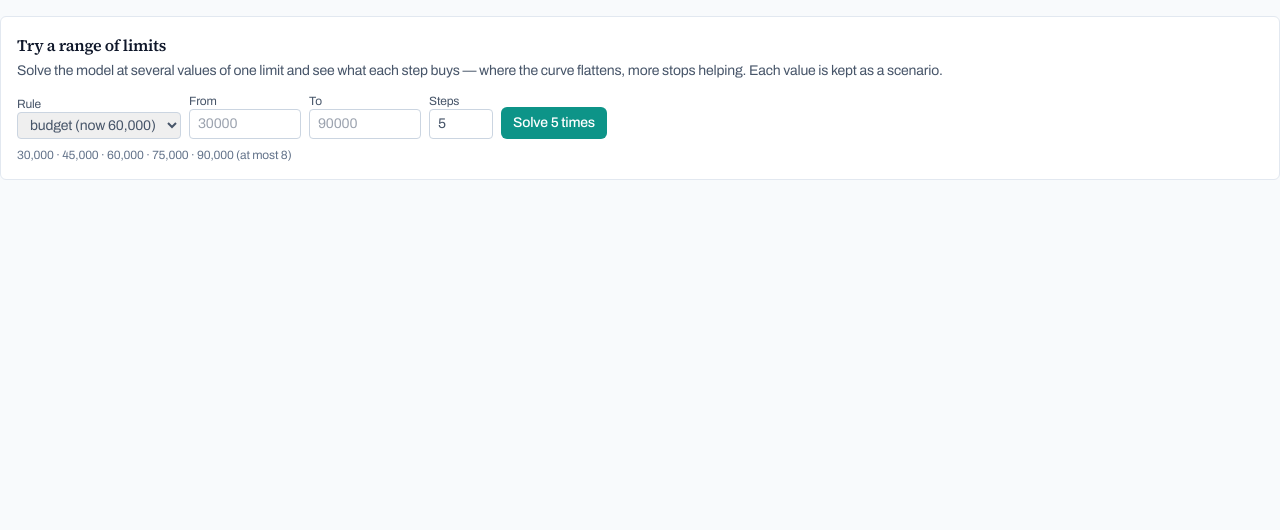
Scenario: solves the model once per value, each kept as a scenario, and tabulates the goal
The width and height of the screenshot is (1280, 530).
In the field labelled "From": [245, 124] box 189,109 -> 301,139, type "40000"
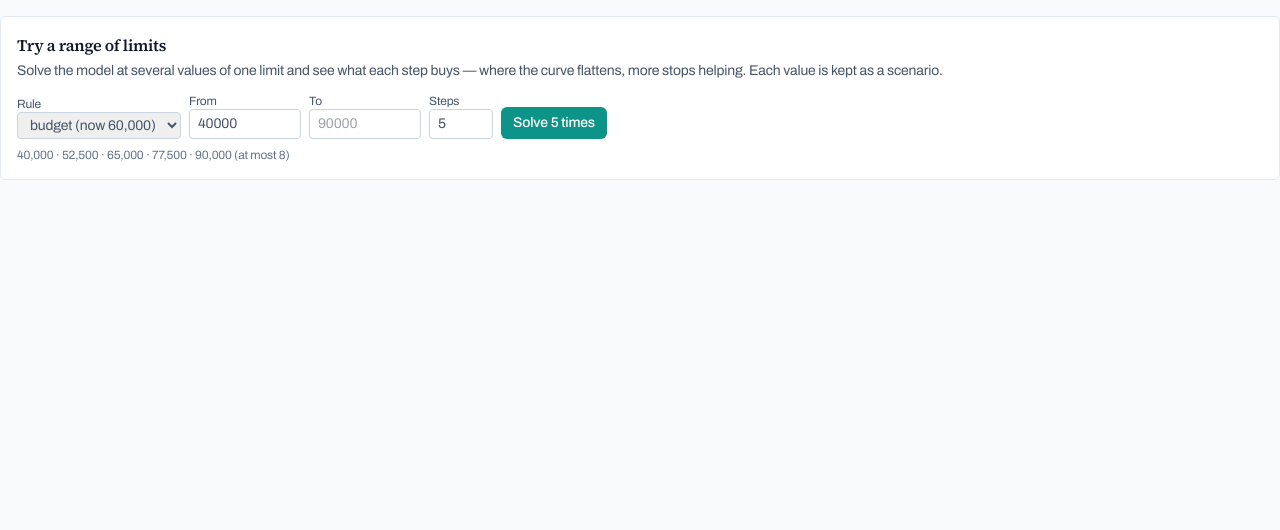
In the field labelled "To": [365, 124] box 309,109 -> 421,139, type "80000"
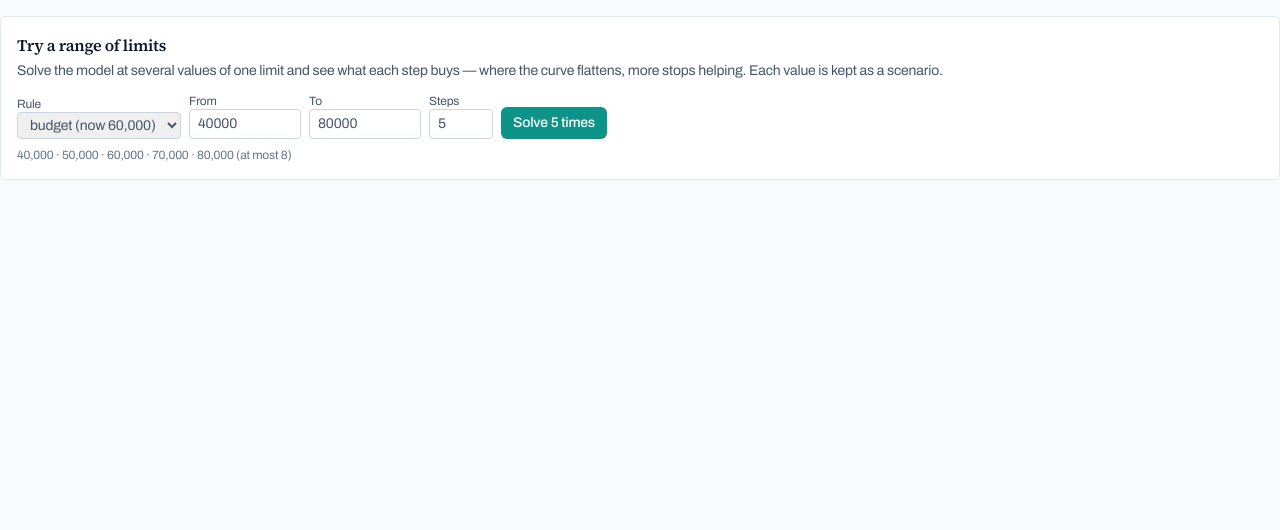
Replace the text in the field labelled "Steps" with "3": [461, 124] box 429,109 -> 493,139
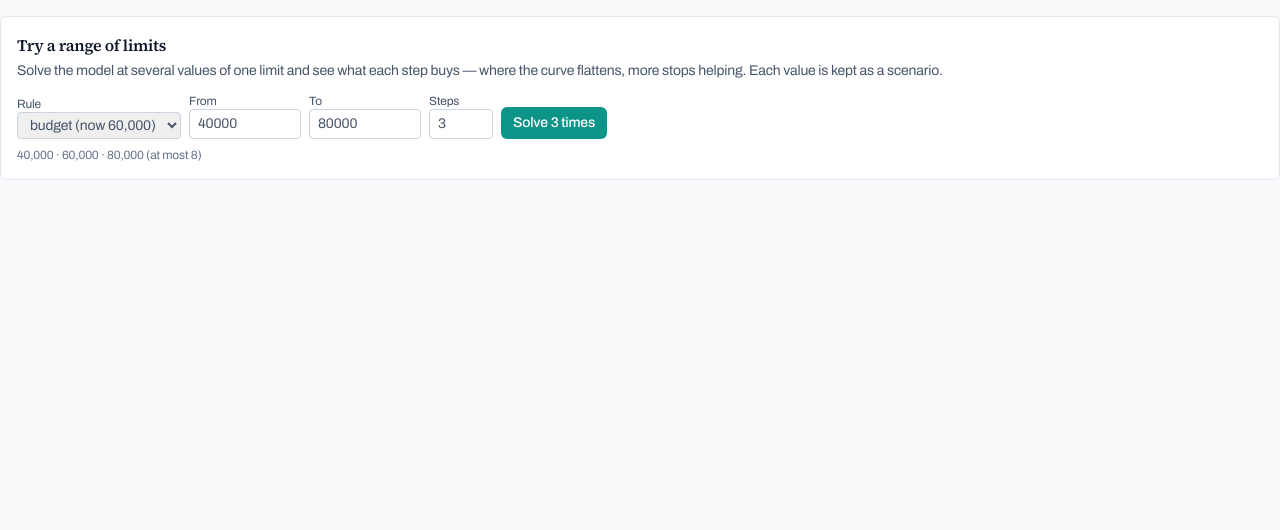
Click the button "Solve 3 times": [554, 123] box 501,107 -> 607,139
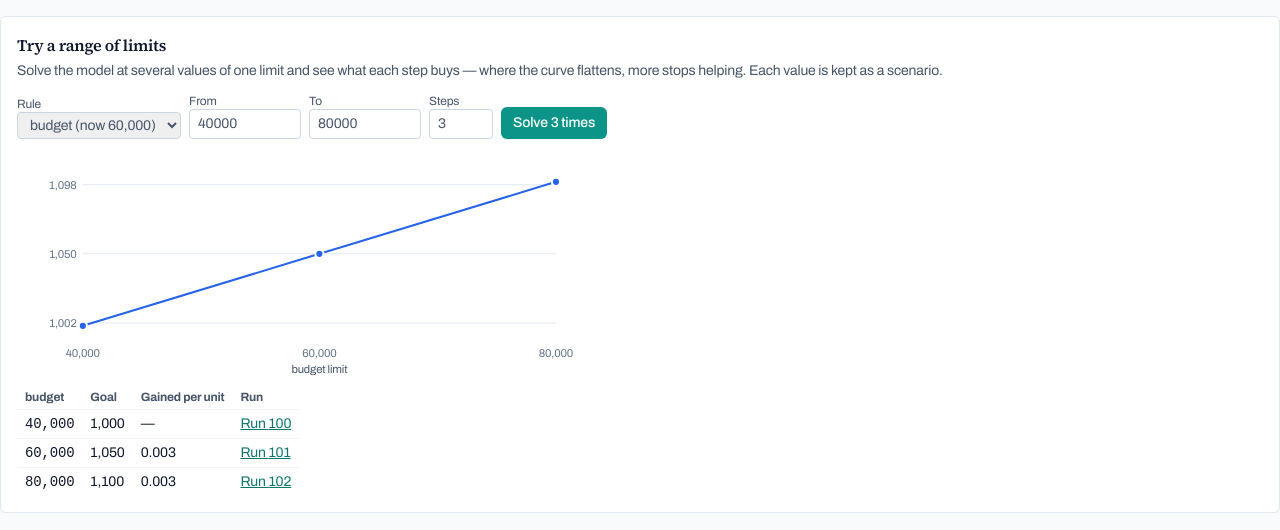
Result: the text "1,100" is shown at 82,468 -> 133,496
Result: the text "0.003" is shown 2 times at 133,439 -> 232,468; 133,468 -> 232,496
Result: the picture named "The goal as budget's limit goes from 40,000 to 80,000" is shown at 17,151 -> 593,377
